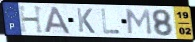8: (151, 8, 176, 37)
A: (44, 6, 73, 35)
H: (17, 5, 46, 34)
K: (75, 7, 96, 35)
L: (99, 8, 121, 35)
M: (125, 8, 153, 36)
